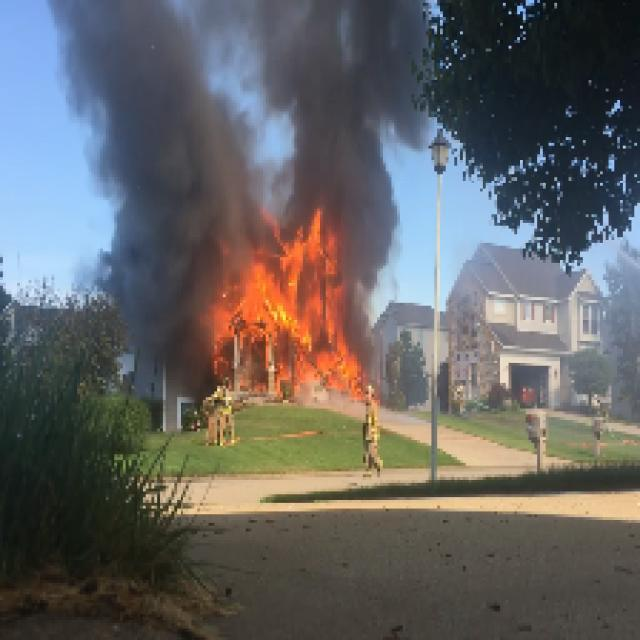Fire: (205, 240, 288, 346), (294, 217, 337, 374)
Smoke: (51, 3, 263, 234), (263, 3, 423, 206), (98, 234, 192, 346), (346, 211, 403, 346)
